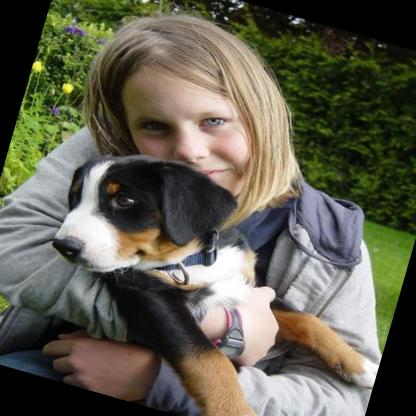Appenzeller: (12, 131, 415, 416)
